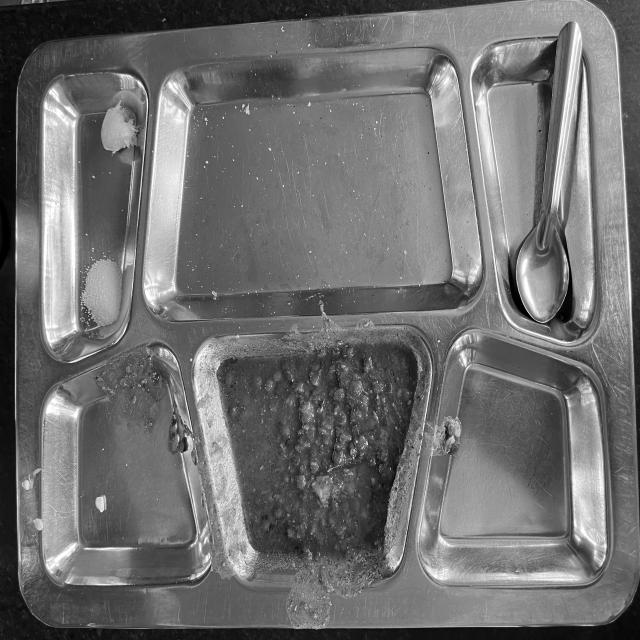20-Food-Left: (25, 52, 619, 604)
